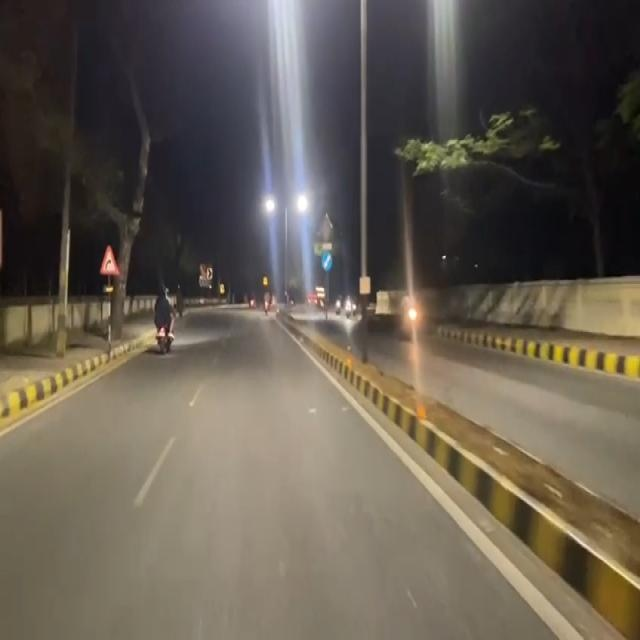bien_nguy_hiem: (100, 244, 120, 278)
